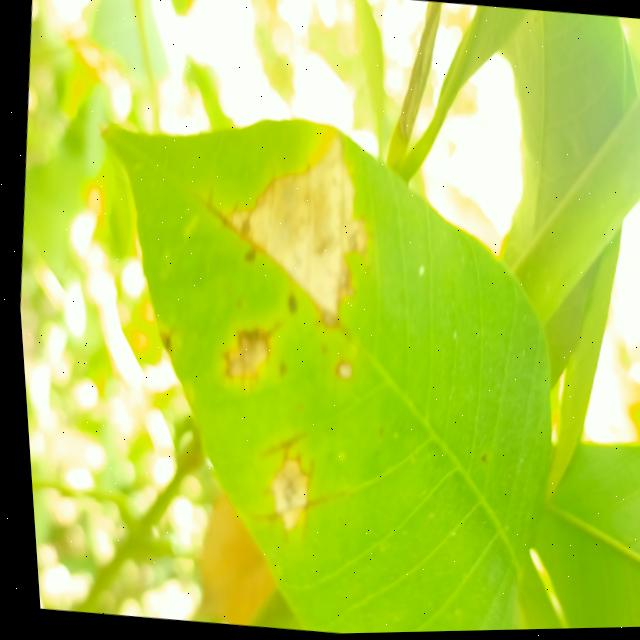Leaf-Blight: (212, 126, 376, 319), (257, 457, 309, 531), (216, 330, 267, 387)
